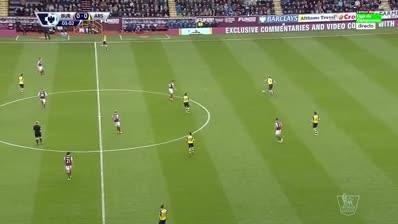futbol: (261, 89, 267, 95)
player: (61, 149, 76, 184), (272, 116, 287, 146), (183, 131, 198, 160), (309, 109, 323, 139), (110, 108, 124, 135), (36, 85, 49, 112), (165, 77, 177, 105), (181, 91, 194, 116), (155, 203, 171, 223), (263, 74, 276, 97), (17, 73, 28, 98), (34, 56, 46, 78), (99, 32, 111, 50)
referree: (30, 119, 46, 148)
